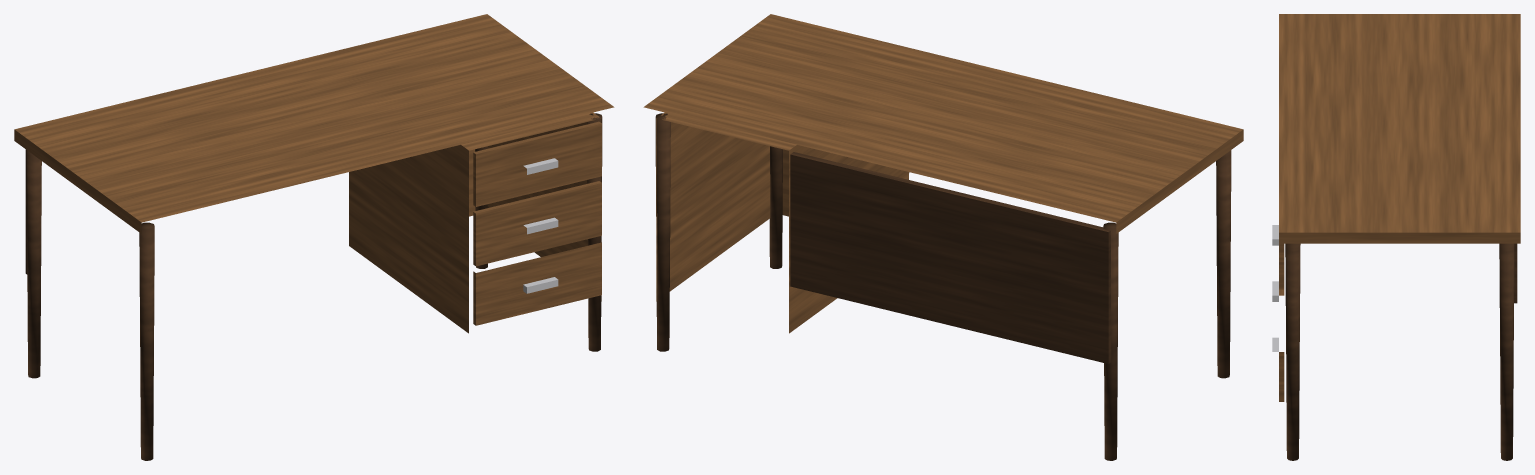
Rendered from desk_wood.glb.
The picture shows the model from 3 angles, left to right: view 1: azimuth 30°, elevation 25°; view 2: azimuth 150°, elevation 25°; view 3: azimuth 270°, elevation 25°; orthographic projection. The views are drawn at different scales.
Visible parts, largest first — view 1: DeskWood; view 2: DeskWood; view 3: DeskWood.
Boxes of the visible parts, x1,y1,x2,y2 form: DeskWood: (14, 14, 614, 460); DeskWood: (643, 14, 1243, 460); DeskWood: (1272, 14, 1520, 460).
Bounding box in the file's own units: 1.5 × 0.74 × 0.72.
Materials: 3 (2 with a texture image).
